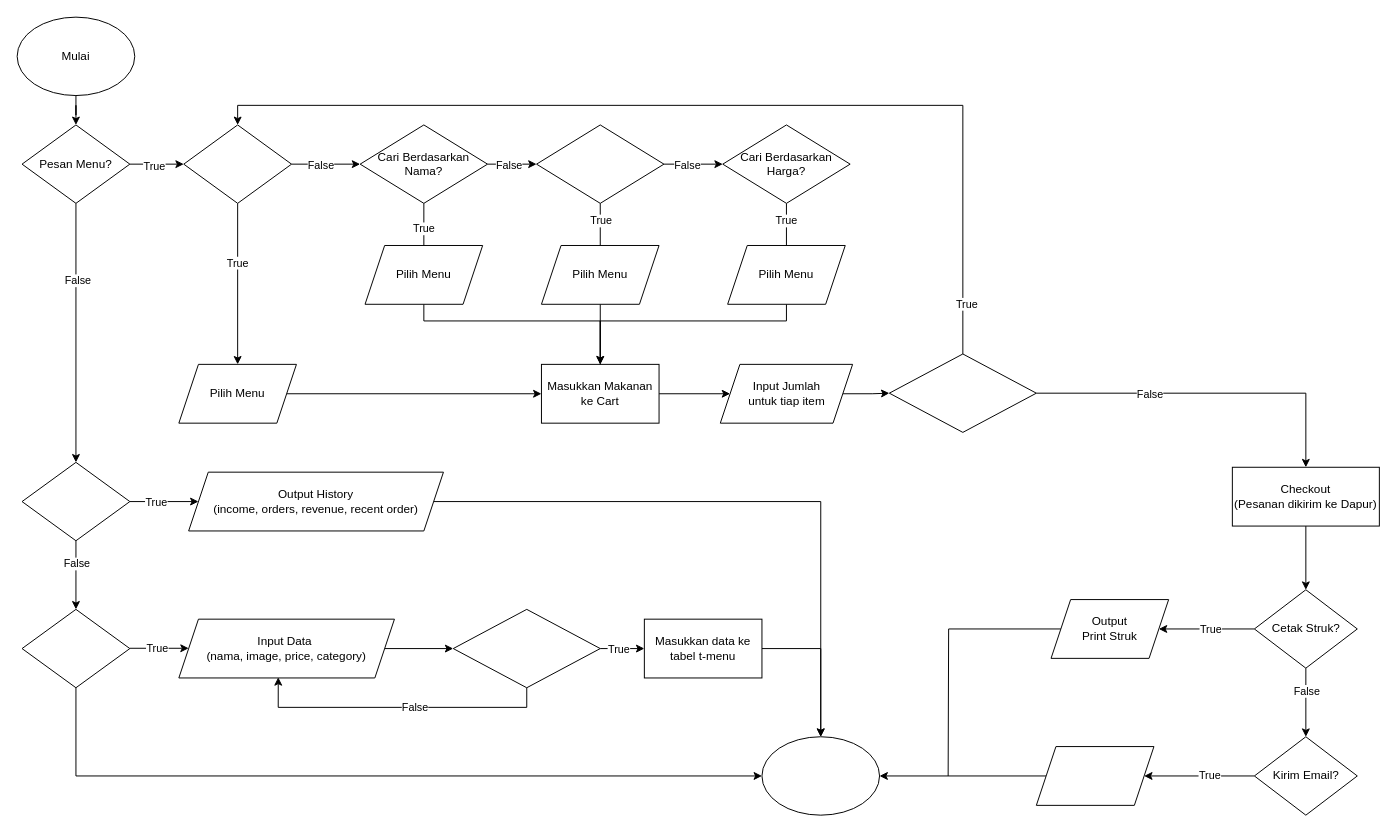
This 1397x833 diagram has some shape labels left out. The shapes that lost their labels are listed below. From the top down, each one's box as (x1, y1, x2, y2) in pixels, then its label:
(183, 124, 292, 203): Sudah tahu menunya?
(536, 124, 664, 203): Cari Berdasarkan Kategori?
(888, 353, 1036, 432): Mau tambah item?
(21, 461, 130, 541): Lihat History?
(21, 608, 130, 688): Tambah Menu?
(452, 608, 600, 688): Sesuai validasi? (!null, dataType)
(761, 736, 880, 815): Selesai
(1035, 746, 1154, 805): Output Email Struk
